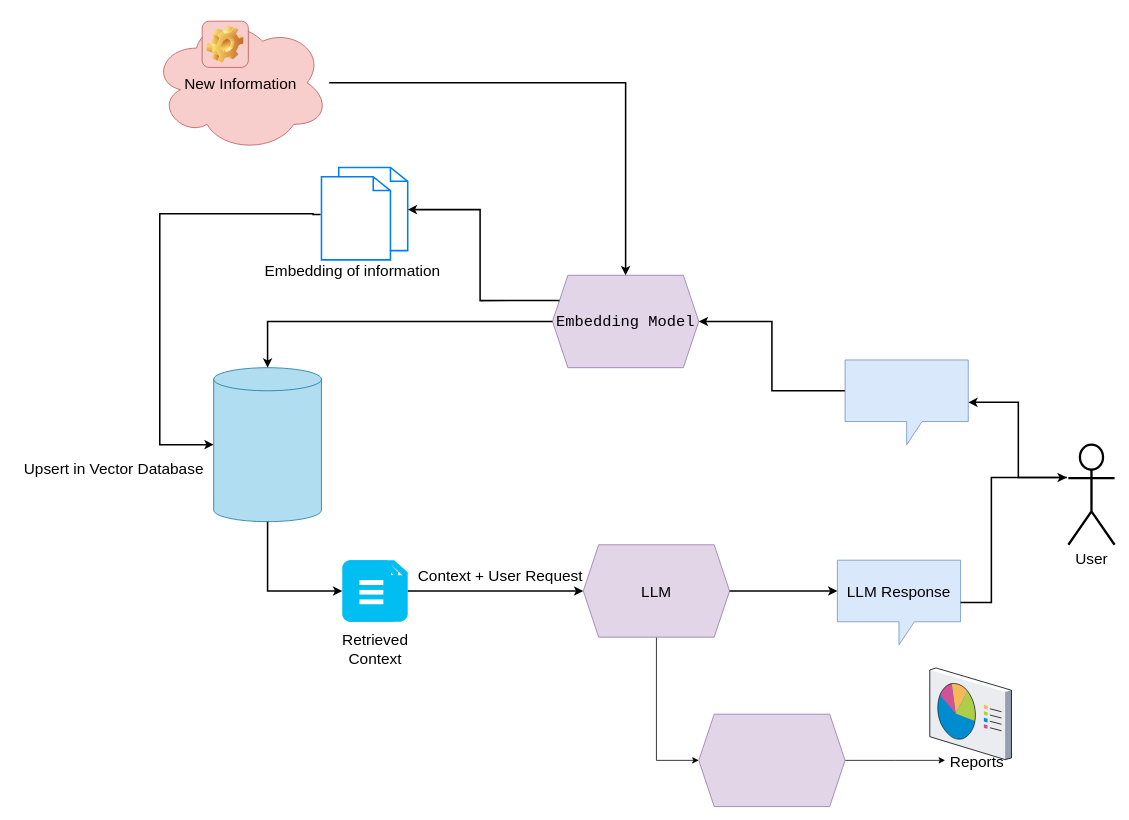
This 1129x820 diagram has some shape labels left out. The centre of each missing label's shape, as x and y in pixels:
LLM Response Evaluation: (771,760)
User request: (906,402)
Vector Knowledge base: (267,444)
